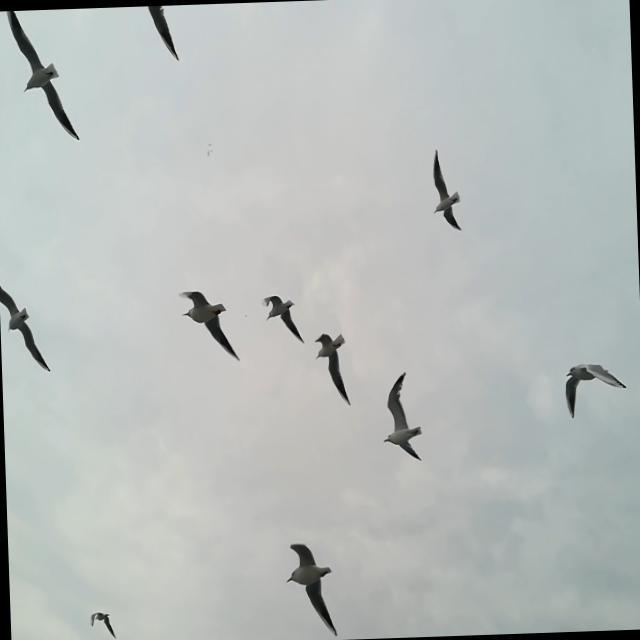bird: (2, 9, 80, 151), (280, 533, 342, 640), (0, 272, 53, 388), (176, 282, 241, 367), (377, 366, 428, 470), (558, 349, 628, 424), (311, 319, 357, 419), (254, 281, 304, 359), (427, 143, 465, 243), (86, 603, 118, 640)
